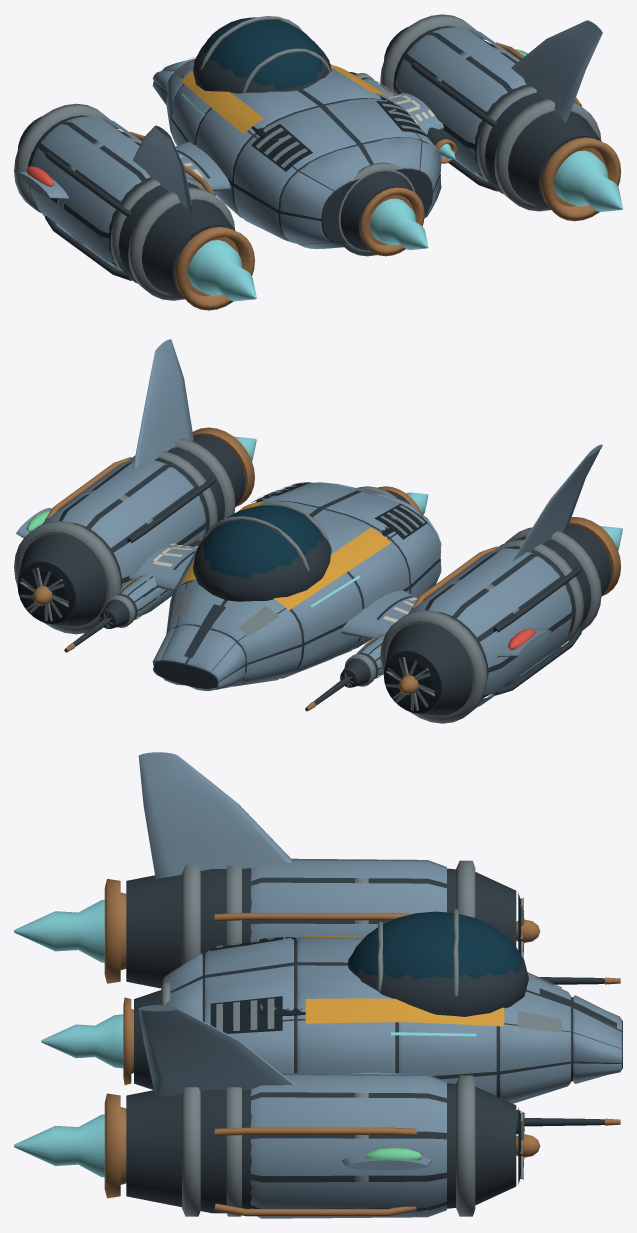
The model's file is engine_scout.glb.
3 views of the same model, one above another, from view 1: azimuth 30°, elevation 25°; view 2: azimuth 150°, elevation 25°; view 3: azimuth 270°, elevation 25° (orthographic). The views are drawn at different scales.
Visible parts, largest first — view 1: engine_scout; view 2: engine_scout; view 3: engine_scout.
Boxes of the visible parts, <box> form: engine_scout: <box>14,14,622,310</box>; engine_scout: <box>14,339,622,723</box>; engine_scout: <box>14,752,622,1218</box>.
Bounding box in the file's own units: 8.04 × 2.88 × 7.04.
